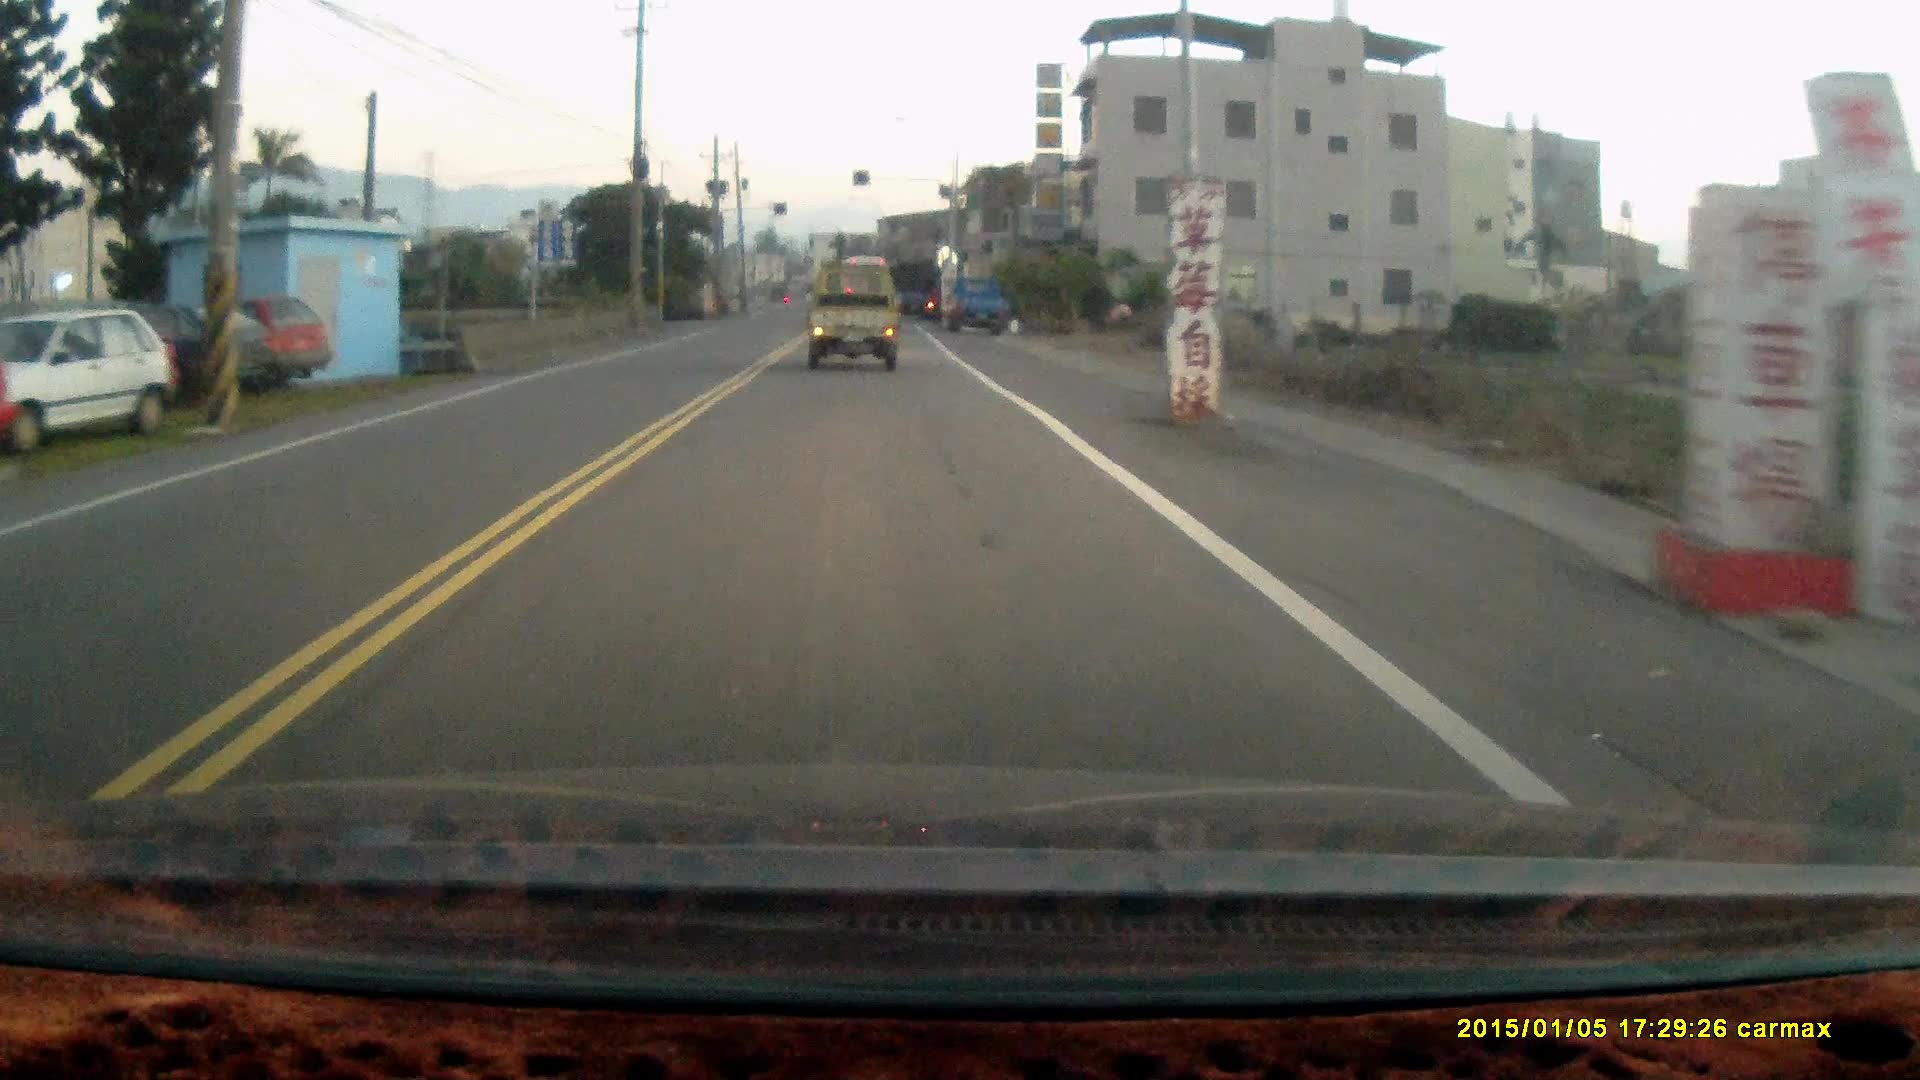vehicle: (1, 316, 179, 450), (123, 295, 338, 393), (811, 278, 902, 376), (942, 273, 1014, 336), (889, 262, 944, 326)
